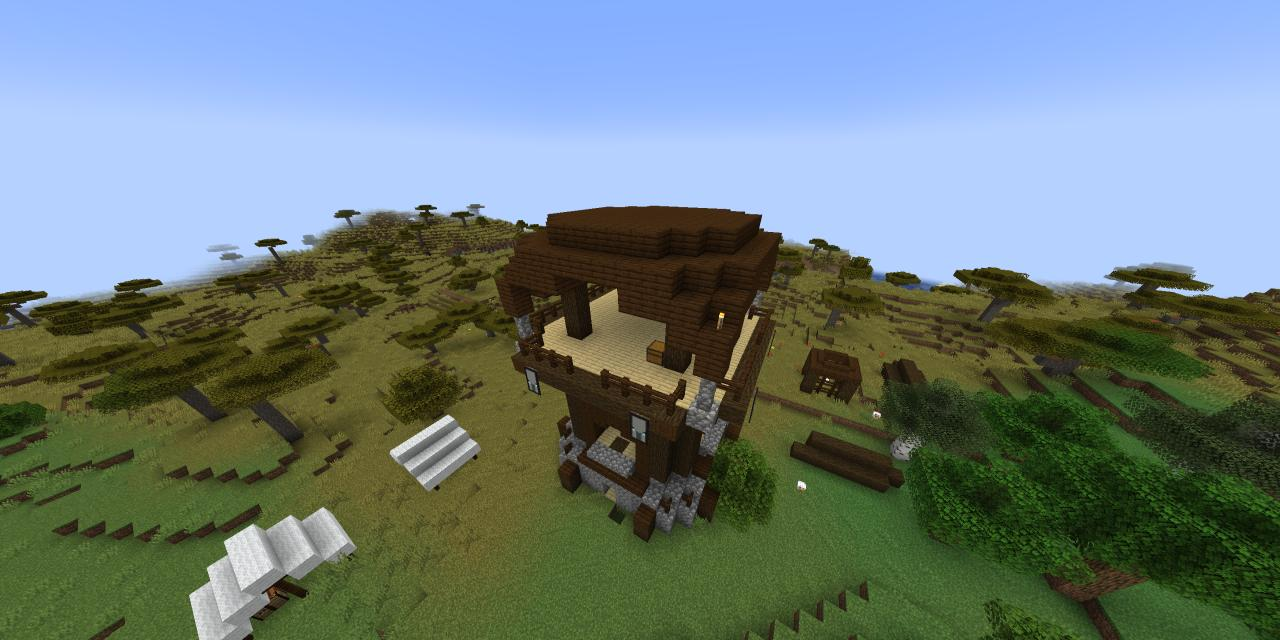pillager outpost: (487, 193, 797, 554)
